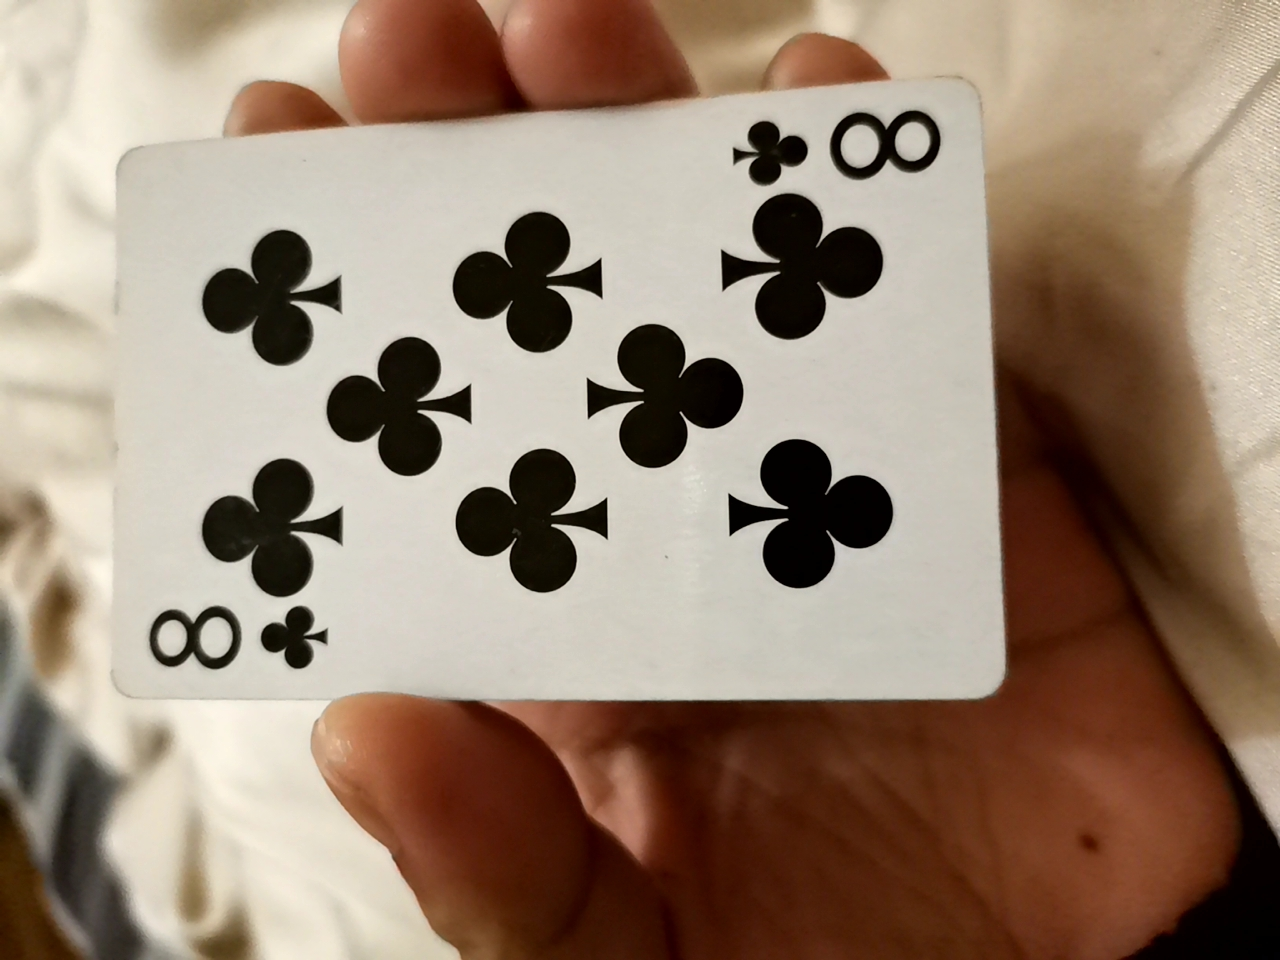mh 8: (92, 59, 1007, 709)
